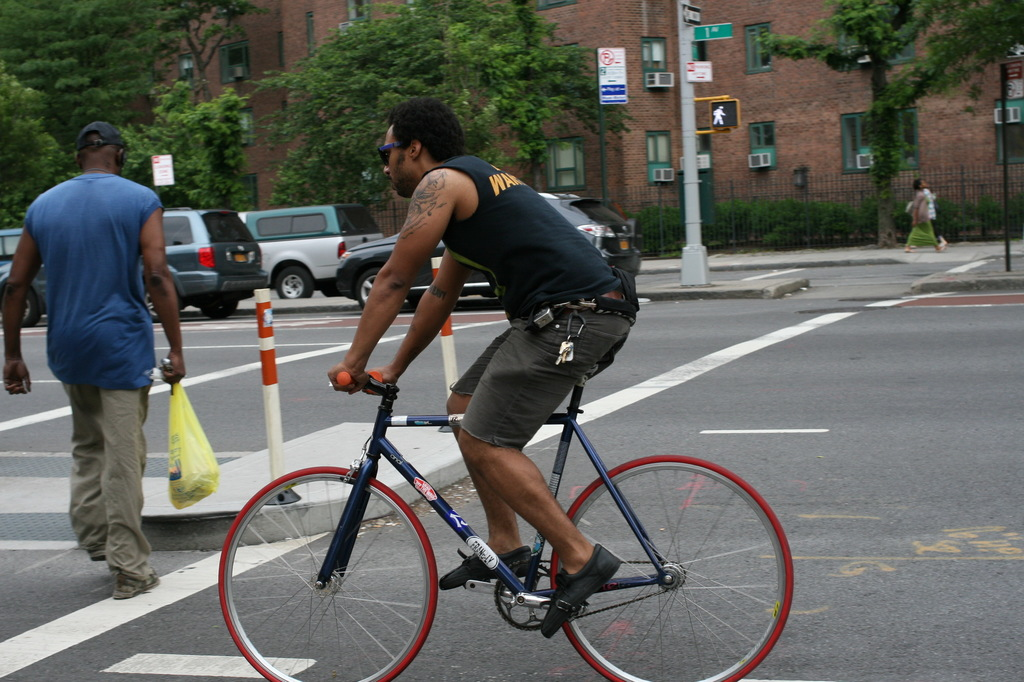Bike_away: (216, 345, 795, 679)
